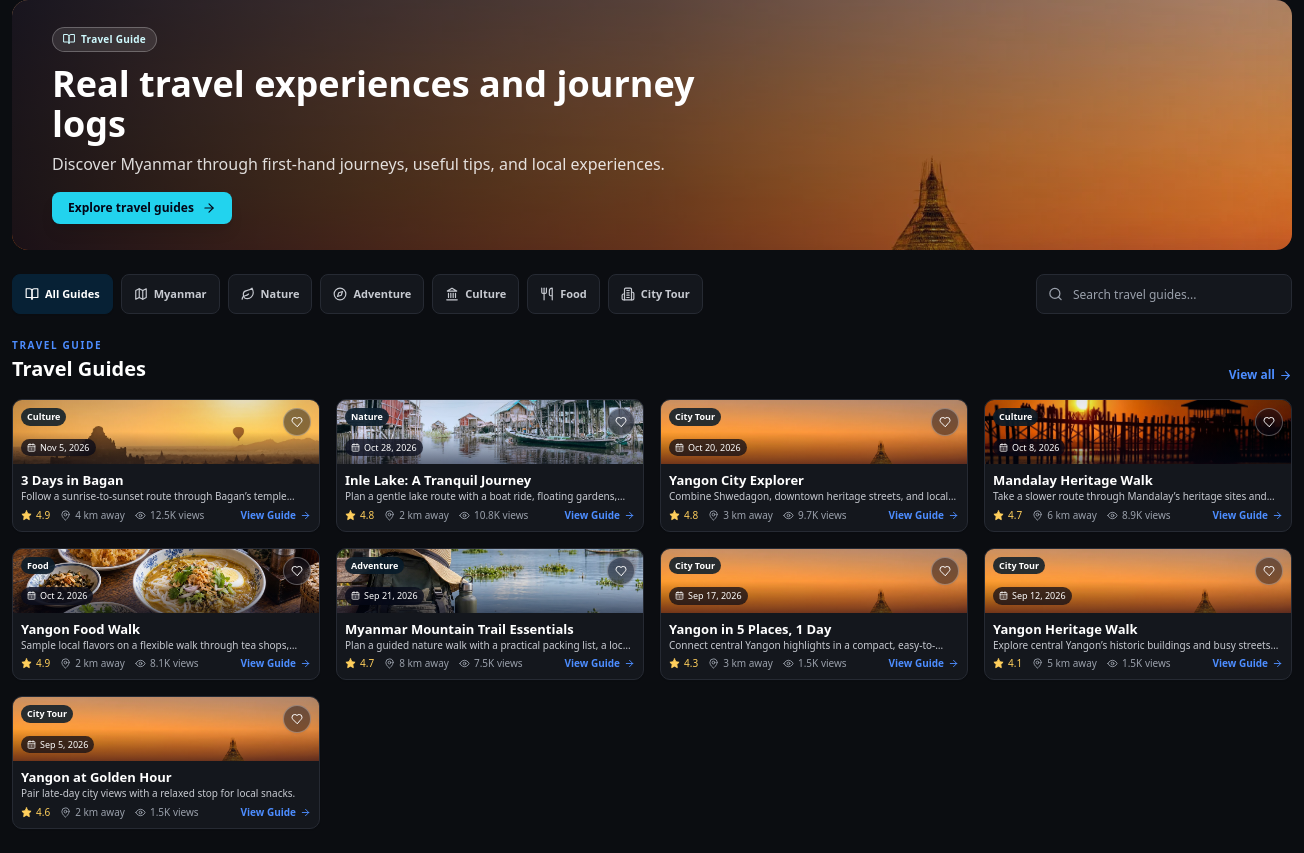
every list reaches an empty state › Travel Guide says no guides match
This screenshot has width=1304, height=853.
Type "zzzznomatchzzzz" into the search field with placeholder "Search travel guides..." at (1164, 294), box [1036, 274, 1292, 314]
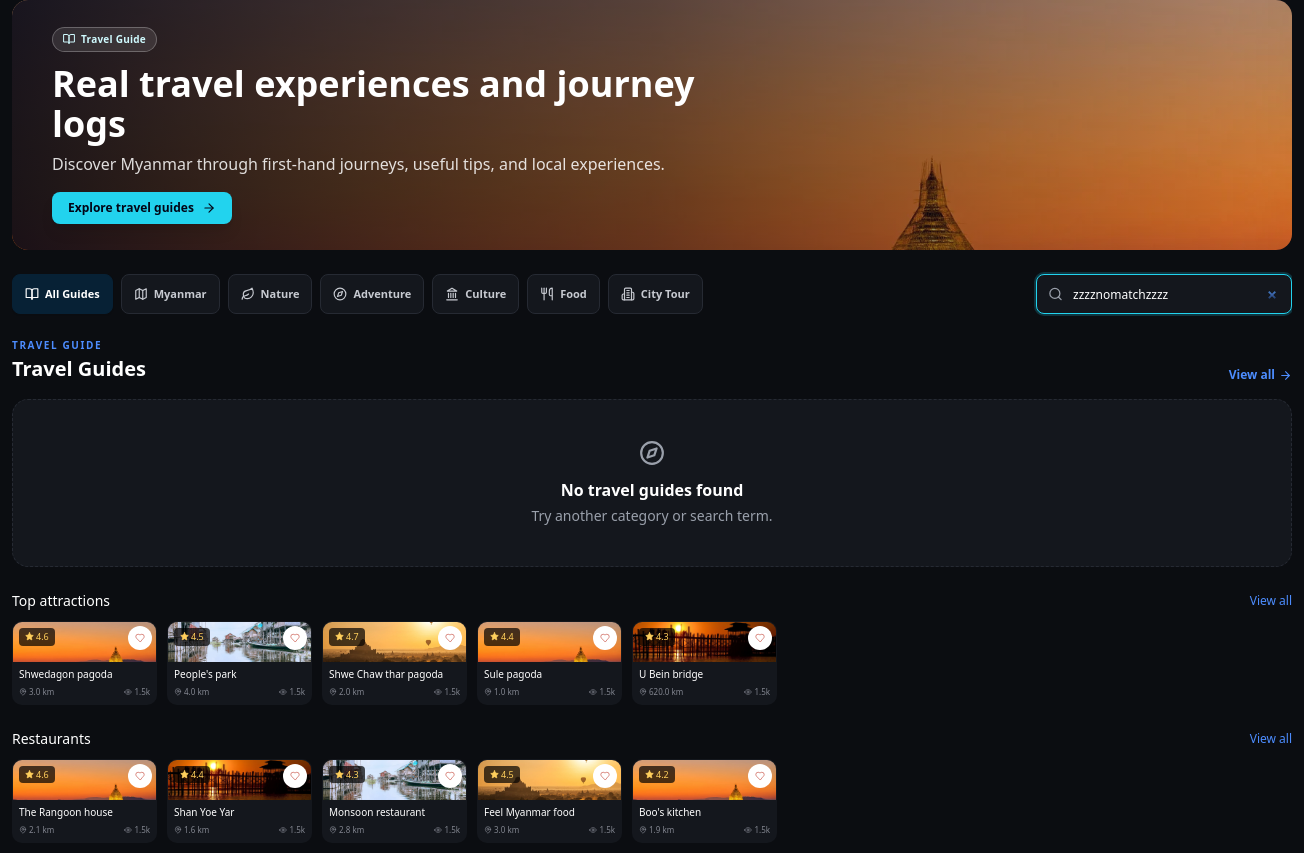
Expected: the heading "No travel guides found" is shown, [561, 479, 743, 501]
